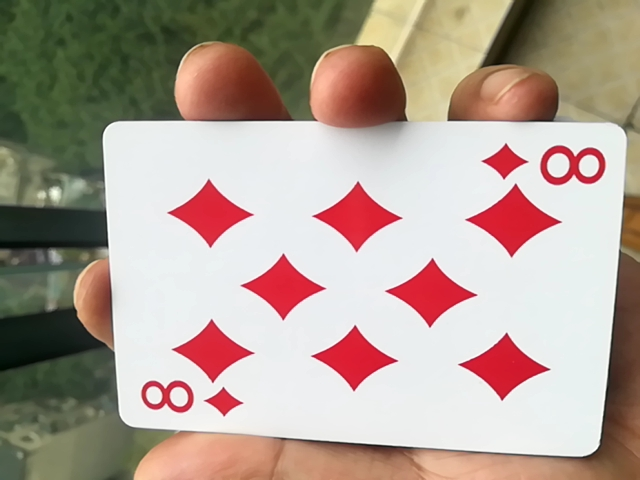fk 8: (94, 125, 621, 466)
